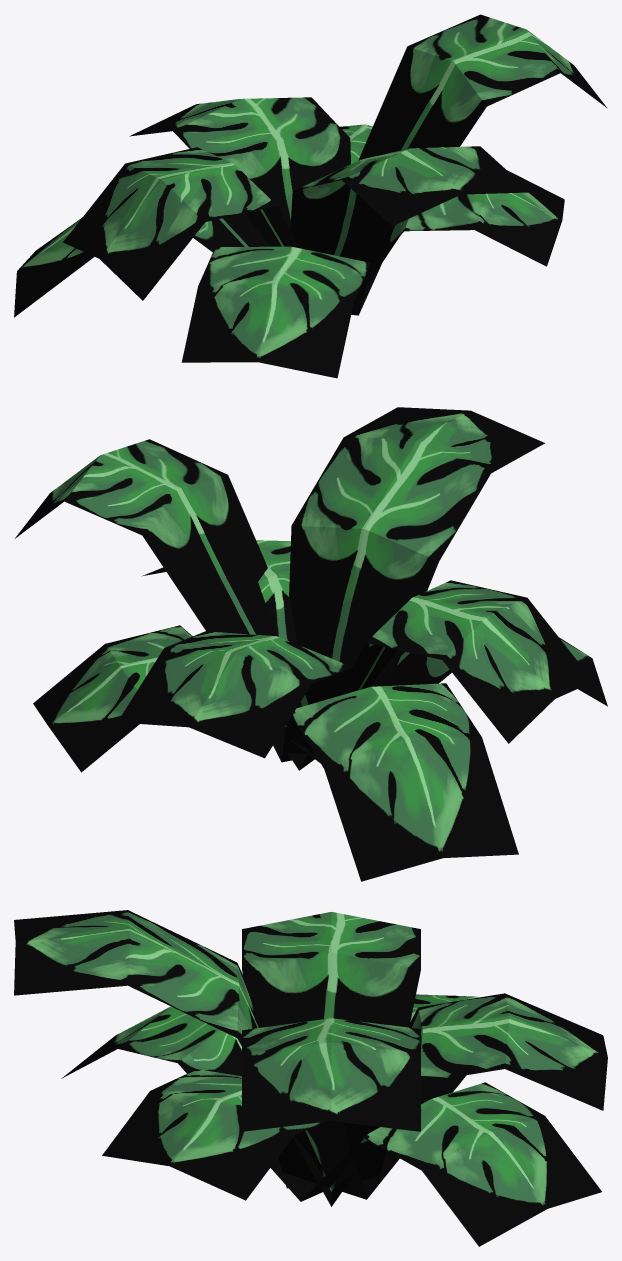
Rendered from MonsteraPlant1.fbx.
3 views of the same model, one above another, from view 1: azimuth 30°, elevation 25°; view 2: azimuth 150°, elevation 25°; view 3: azimuth 270°, elevation 25° (orthographic). The views are drawn at different scales.
Parts seen in each view (by area): view 1: MonsteraPlant1; view 2: MonsteraPlant1; view 3: MonsteraPlant1.
Part boxes in pixels (x1,y1,x2,y2): MonsteraPlant1: [14, 14, 607, 378]; MonsteraPlant1: [15, 407, 607, 881]; MonsteraPlant1: [14, 910, 607, 1246].
Size of the model in its own units: 1.44 by 0.6366 by 1.32.
